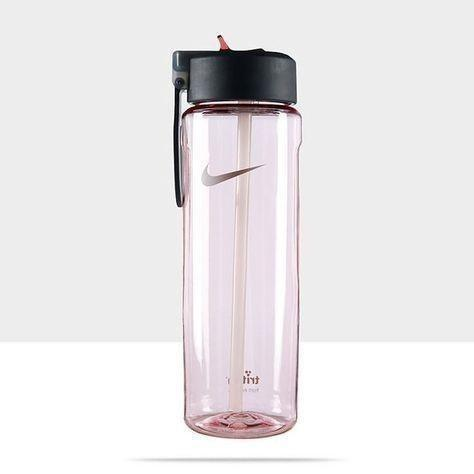gym bottle: (174, 44, 304, 440)
